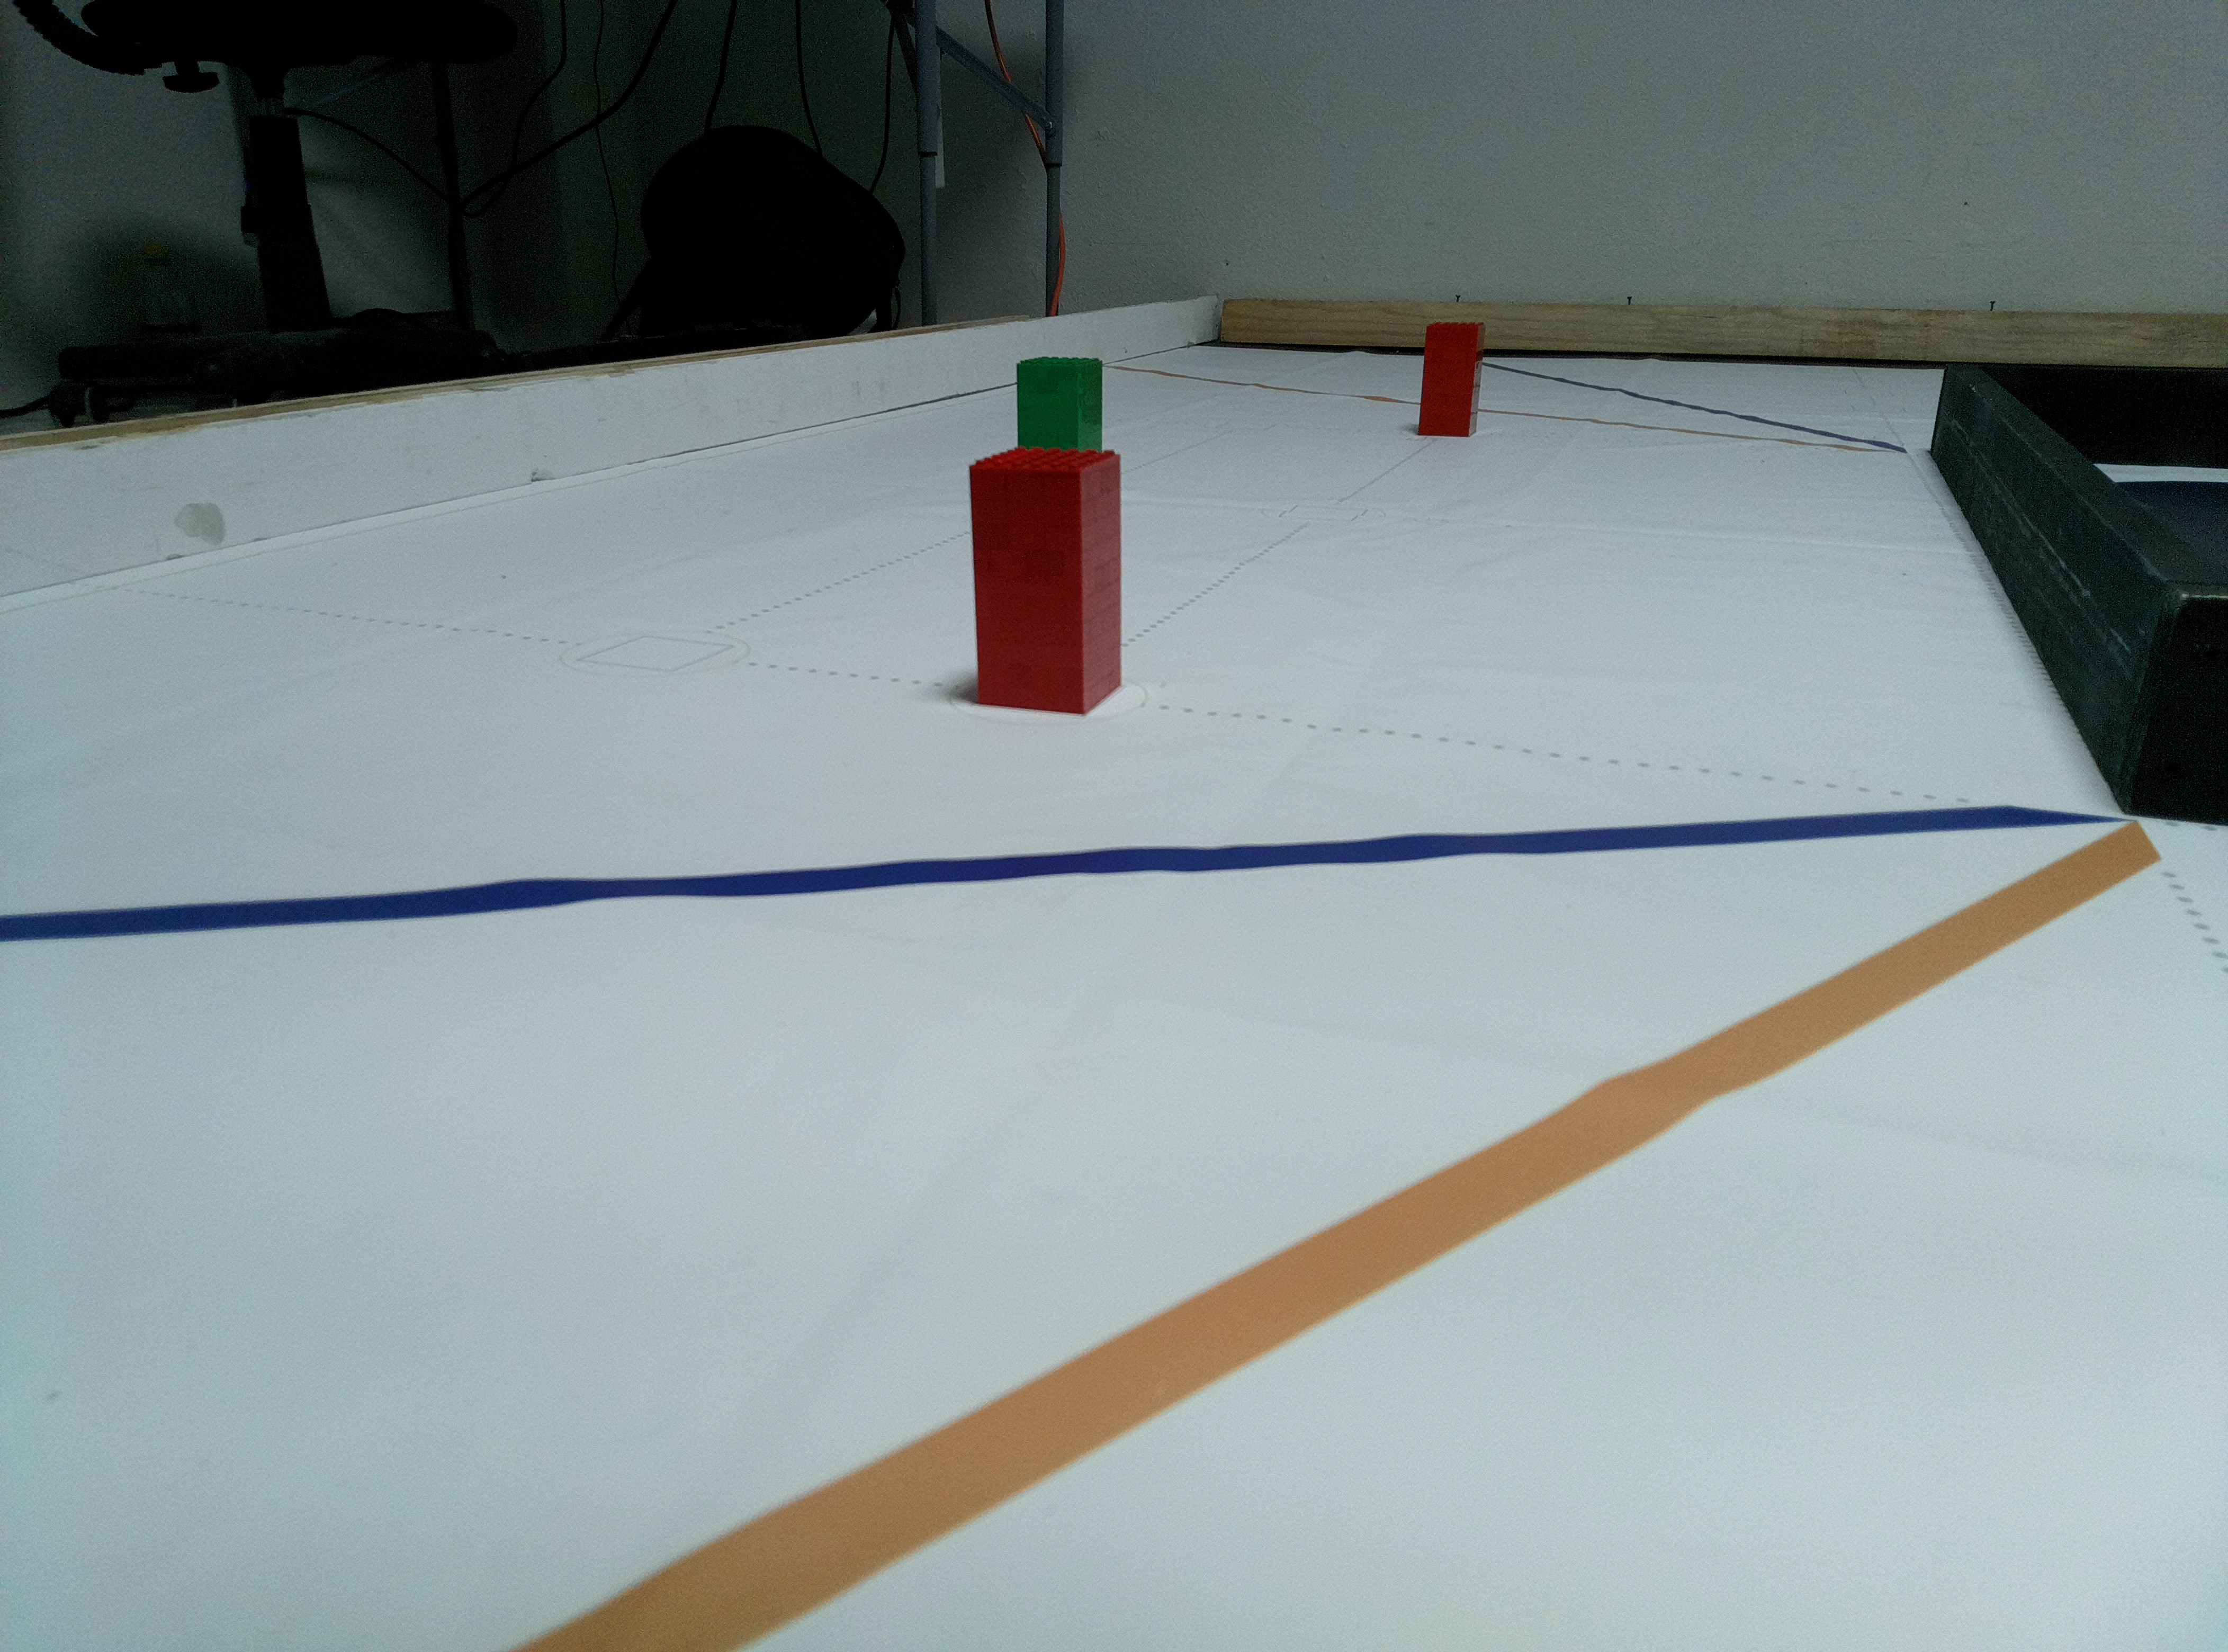greenbox: (1013, 354, 1105, 451)
redbox: (967, 442, 1124, 717), (1416, 321, 1487, 437)
